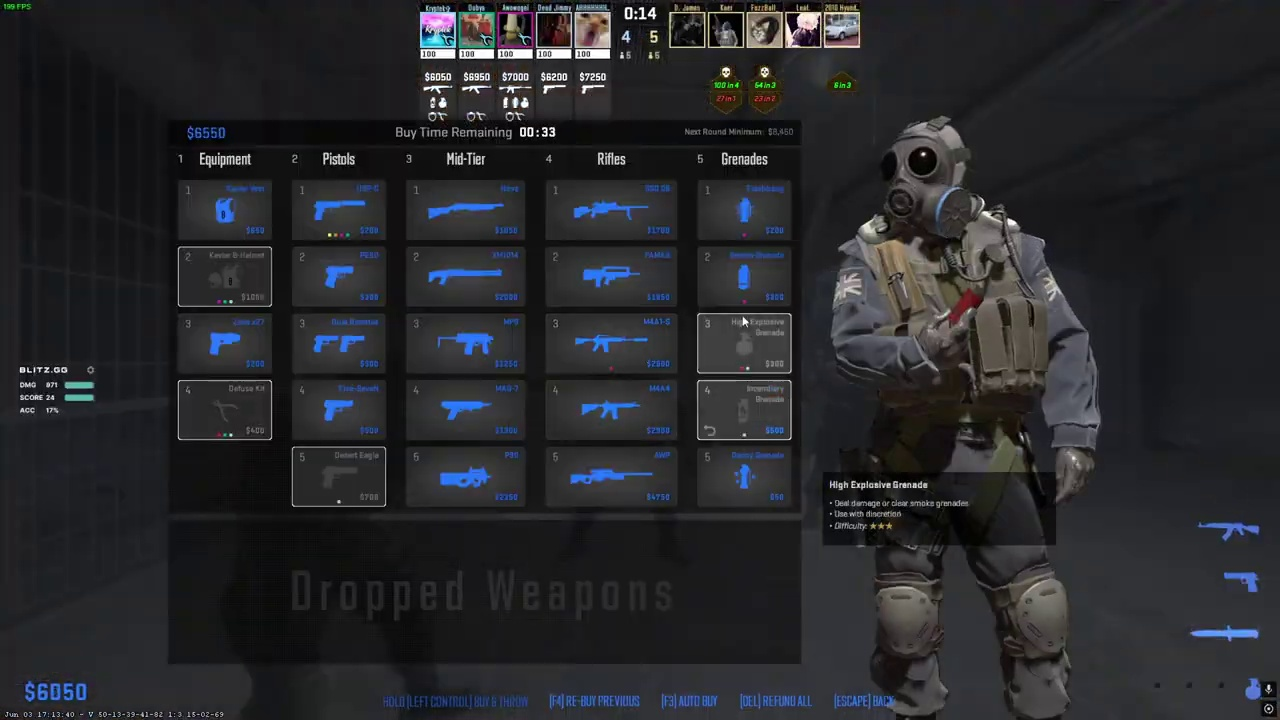CT: (832, 120, 1094, 720)
